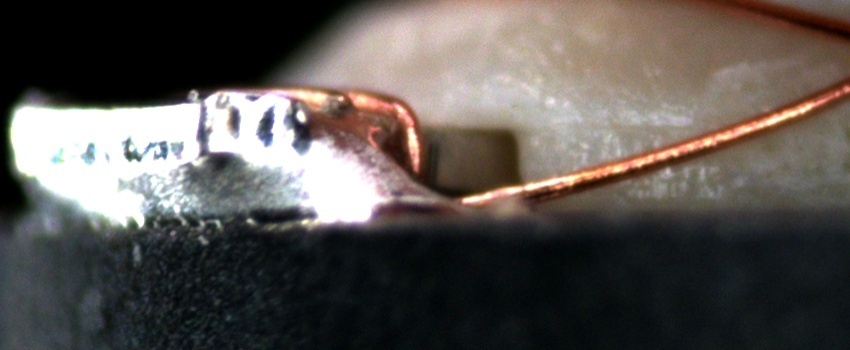DL: (561, 94, 708, 158)
TE: (269, 83, 443, 189)
